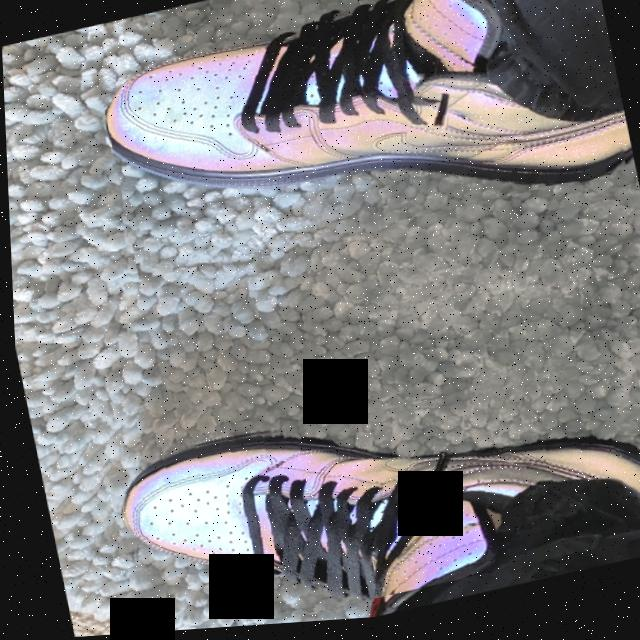shoe: (88, 0, 636, 283), (103, 351, 640, 635)
